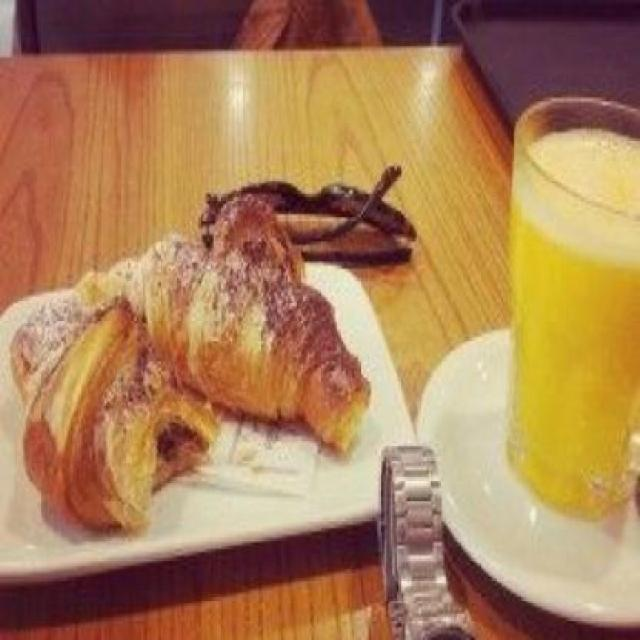Croissant: (78, 193, 376, 461), (8, 298, 214, 530)
